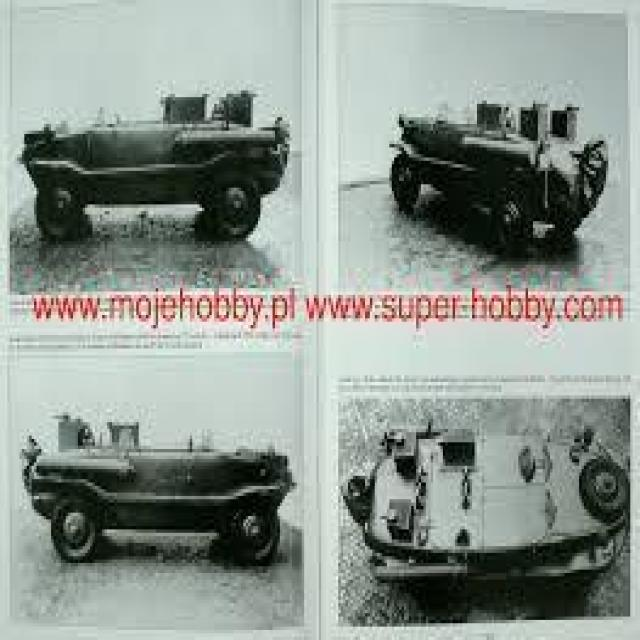Tanks: (340, 397, 624, 595), (16, 387, 296, 571), (22, 76, 289, 240), (376, 77, 610, 245)
